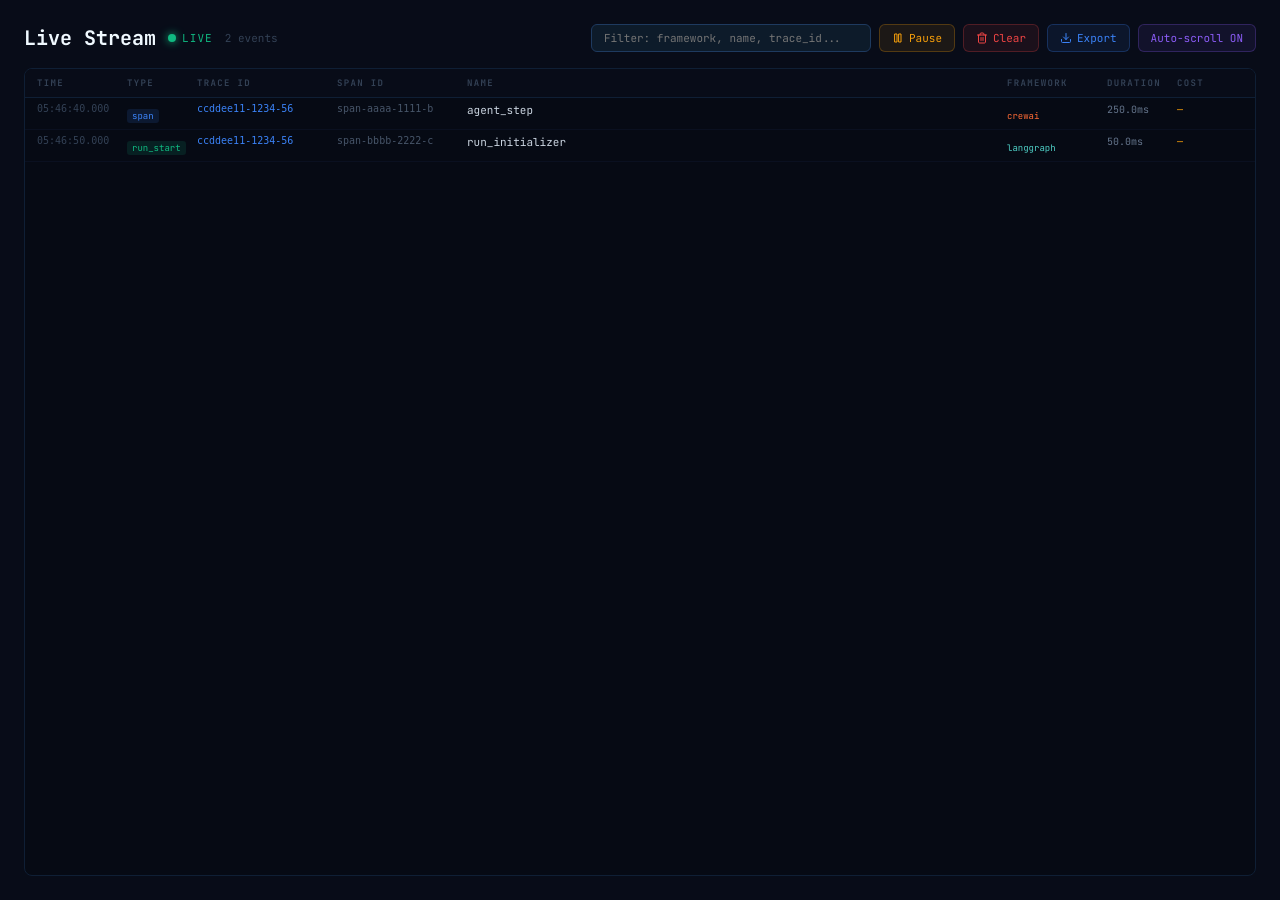
Test: LiveStream › resume button changes status back to LIVE
This screenshot has width=1280, height=900.
First pause
Click the button "Pause".
click(917, 38)  # box [879,24,955,52]
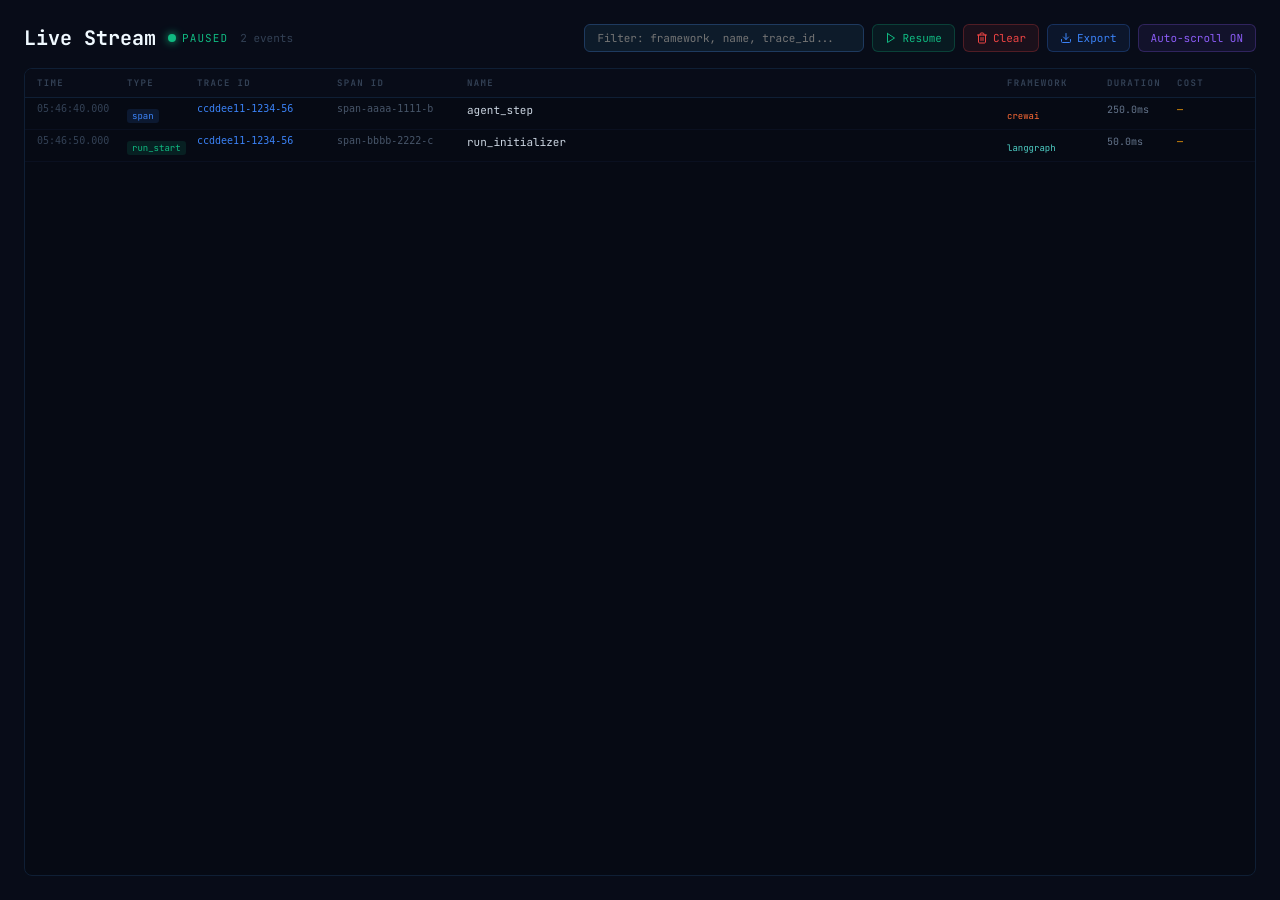
Now the text "PAUSED" is shown, box [182,31,228,45]
Then resume
Click the button "Resume".
click(914, 38)  # box [872,24,955,52]
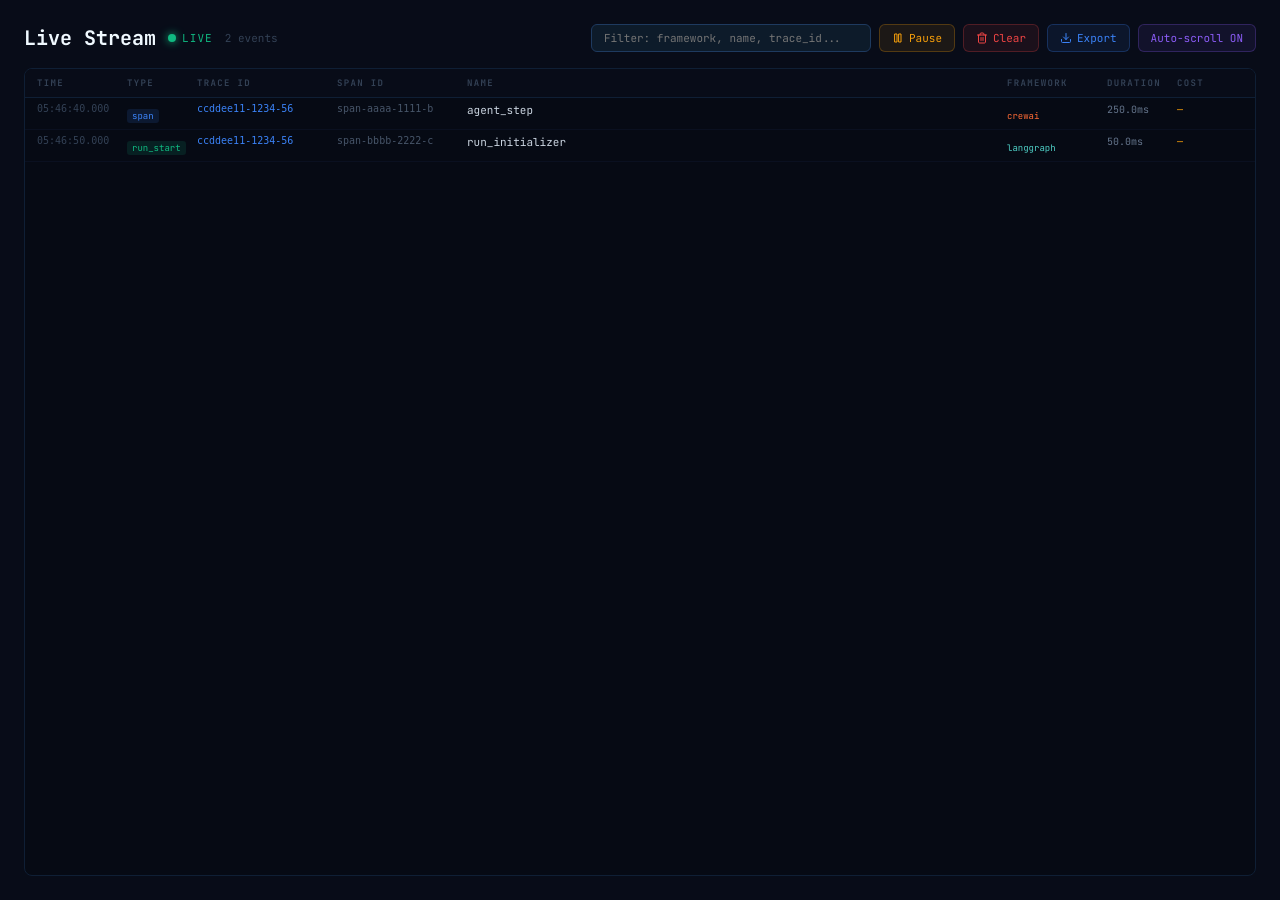
Now the text "LIVE" is shown, box [182,31,213,45]
